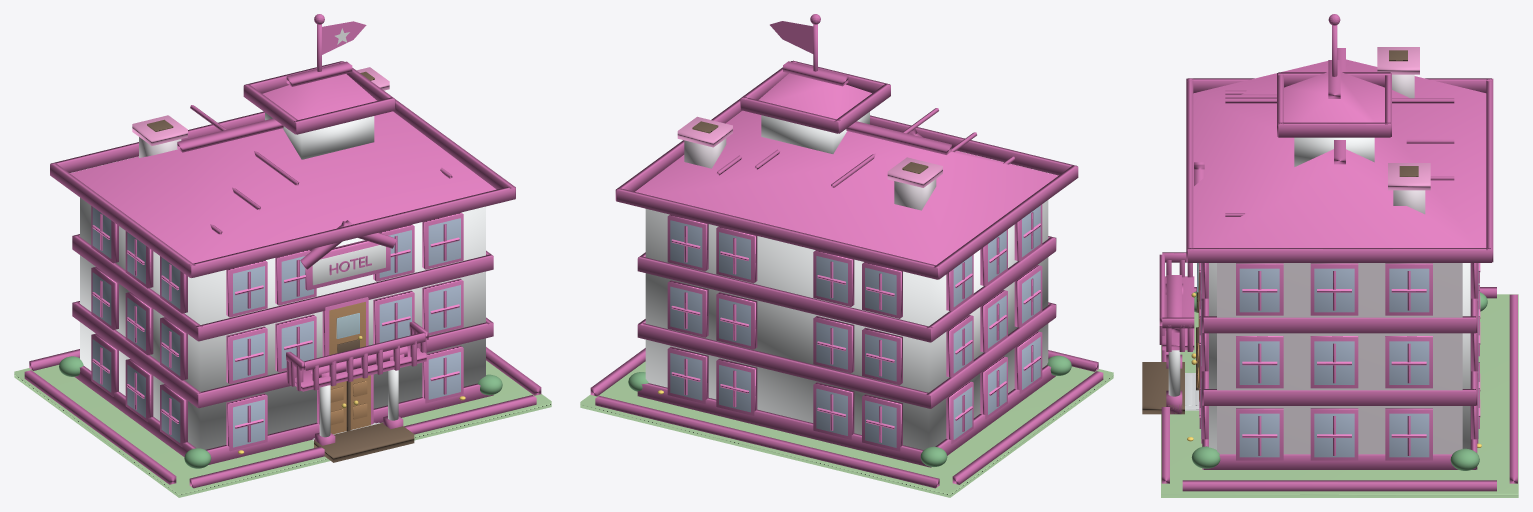
The model's file is hotel_detallado_pink.glb.
3 views of the same model, side by side, from view 1: azimuth 30°, elevation 25°; view 2: azimuth 150°, elevation 25°; view 3: azimuth 270°, elevation 25° (orthographic). The views are drawn at different scales.
Visible parts, largest first — view 1: Hotel_Techo_Principal, Hotel_Cuerpo_Principal, Hotel_Grama_Base, Hotel_Techo_Principal_Fascia_Frontal, Hotel_Zocalo_Frontal_Nivel_3, Hotel_Torre_Central_Techo, Hotel_Zocalo_Frontal_Nivel_1, Hotel_Zocalo_Frontal_Nivel_2, Hotel_Techo_Principal_Fascia_Izquierda, Hotel_Torre_Central_Pared, Hotel_Entrada_Escalon, Hotel_Zocalo_Izquierdo_Nivel_3 (+57 smaller); view 2: Hotel_Techo_Principal, Hotel_Cuerpo_Principal, Hotel_Grama_Base, Hotel_Zocalo_Trasero_Nivel_3, Hotel_Zocalo_Trasero_Nivel_2, Hotel_Techo_Principal_Fascia_Trasera, Hotel_Borde_Base_Trasero, Hotel_Zocalo_Trasero_Nivel_1, Hotel_Torre_Central_Techo, Hotel_Techo_Principal_Fascia_Izquierda, Hotel_Techo_Principal_Fascia_Frontal, Hotel_Zocalo_Izquierdo_Nivel_3 (+54 smaller); view 3: Hotel_Techo_Principal, Hotel_Pared_Lateral_Azulada, Hotel_Grama_Base, Hotel_Zocalo_Derecho_Nivel_3, Hotel_Techo_Principal_Fascia_Derecha, Hotel_Zocalo_Derecho_Nivel_2, Hotel_Torre_Central_Techo, Hotel_Borde_Base_Lateral_Derecho, Hotel_Zocalo_Derecho_Nivel_1, Hotel_Cuerpo_Principal, Hotel_Torre_Central_Techo_Fascia_Derecha, Hotel_Borde_Base_Trasero (+38 smaller).
Part boxes in pixels (<box>): Hotel_Techo_Principal: <box>70,111,496,263</box>; Hotel_Cuerpo_Principal: <box>80,197,485,449</box>; Hotel_Grama_Base: <box>14,360,551,497</box>; Hotel_Techo_Principal_Fascia_Frontal: <box>189,187,515,277</box>; Hotel_Zocalo_Frontal_Nivel_3: <box>196,254,493,341</box>; Hotel_Torre_Central_Techo: <box>262,74,376,119</box>; Hotel_Zocalo_Frontal_Nivel_1: <box>206,383,493,464</box>; Hotel_Zocalo_Frontal_Nivel_2: <box>197,321,493,408</box>; Hotel_Techo_Principal_Fascia_Izquierda: <box>50,163,195,277</box>; Hotel_Torre_Central_Pared: <box>265,112,374,159</box>; Hotel_Entrada_Escalon: <box>314,423,414,462</box>; Hotel_Zocalo_Izquierdo_Nivel_3: <box>72,235,202,340</box>; Hotel_Techo_Principal: <box>635,110,1058,265</box>; Hotel_Cuerpo_Principal: <box>645,200,1048,449</box>; Hotel_Grama_Base: <box>580,361,1113,497</box>; Hotel_Zocalo_Trasero_Nivel_3: <box>637,256,932,342</box>; Hotel_Zocalo_Trasero_Nivel_2: <box>637,323,930,408</box>; Hotel_Techo_Principal_Fascia_Trasera: <box>616,188,937,279</box>; Hotel_Borde_Base_Trasero: <box>595,395,939,488</box>; Hotel_Zocalo_Trasero_Nivel_1: <box>637,383,930,467</box>; Hotel_Torre_Central_Techo: <box>758,73,871,119</box>; Hotel_Techo_Principal_Fascia_Izquierda: <box>934,165,1078,279</box>; Hotel_Techo_Principal_Fascia_Frontal: <box>870,115,1077,175</box>; Hotel_Zocalo_Izquierdo_Nivel_3: <box>927,237,1055,342</box>; Hotel_Techo_Principal: <box>1193,59,1486,247</box>; Hotel_Pared_Lateral_Azulada: <box>1217,263,1462,454</box>; Hotel_Grama_Base: <box>1161,294,1518,497</box>; Hotel_Zocalo_Derecho_Nivel_3: <box>1203,316,1475,333</box>; Hotel_Techo_Principal_Fascia_Derecha: <box>1187,248,1491,262</box>; Hotel_Zocalo_Derecho_Nivel_2: <box>1203,389,1475,405</box>; Hotel_Torre_Central_Techo: <box>1284,72,1384,122</box>; Hotel_Borde_Base_Lateral_Derecho: <box>1182,480,1496,491</box>; Hotel_Zocalo_Derecho_Nivel_1: <box>1203,454,1475,469</box>; Hotel_Cuerpo_Principal: <box>1209,263,1470,449</box>; Hotel_Torre_Central_Techo_Fascia_Derecha: <box>1278,122,1390,137</box>; Hotel_Borde_Base_Trasero: <box>1509,294,1517,483</box>.
Size of the model in its own units: 1.75 by 1.67 by 1.41.
